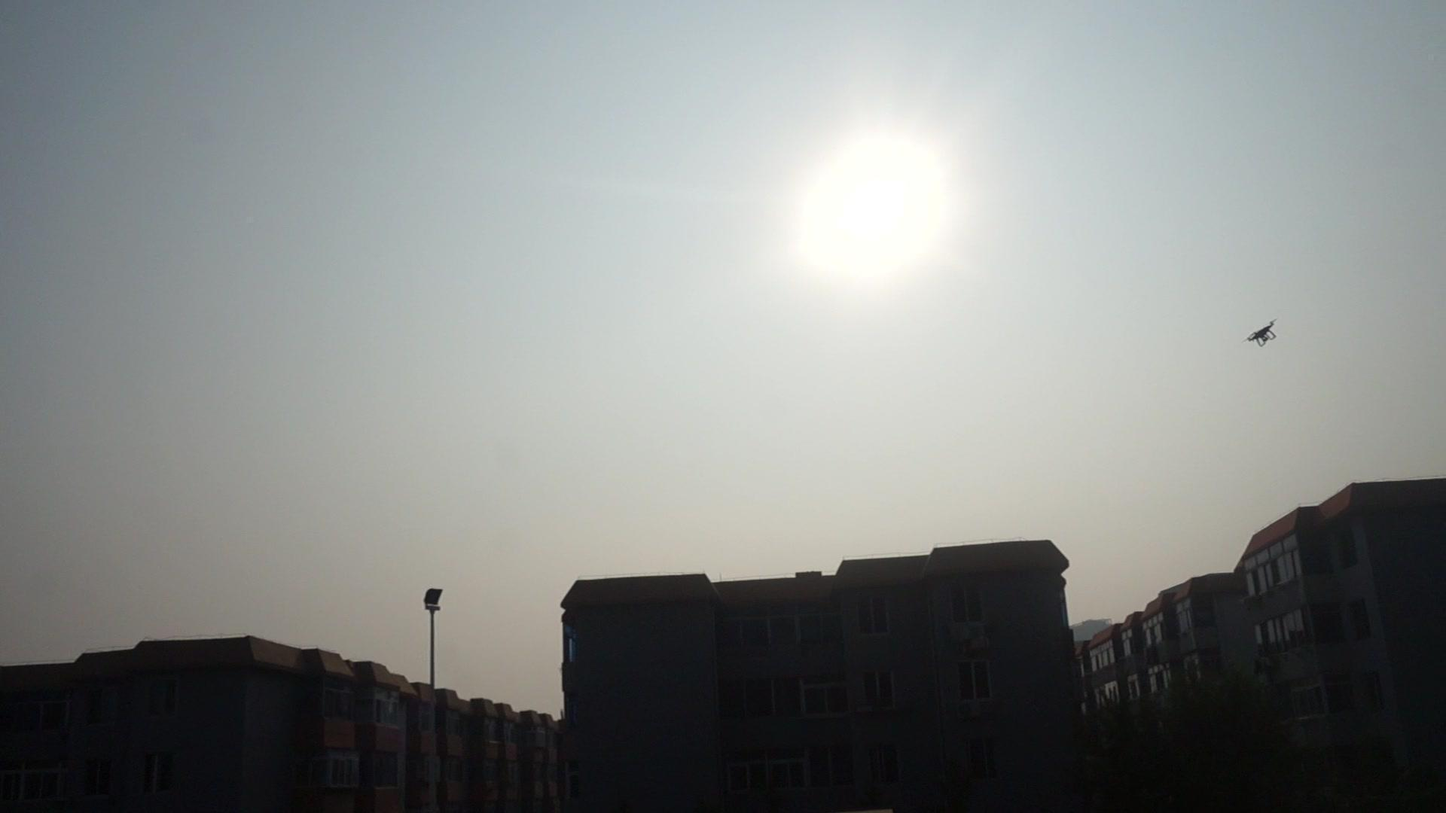UAV: (1242, 319, 1278, 348)
